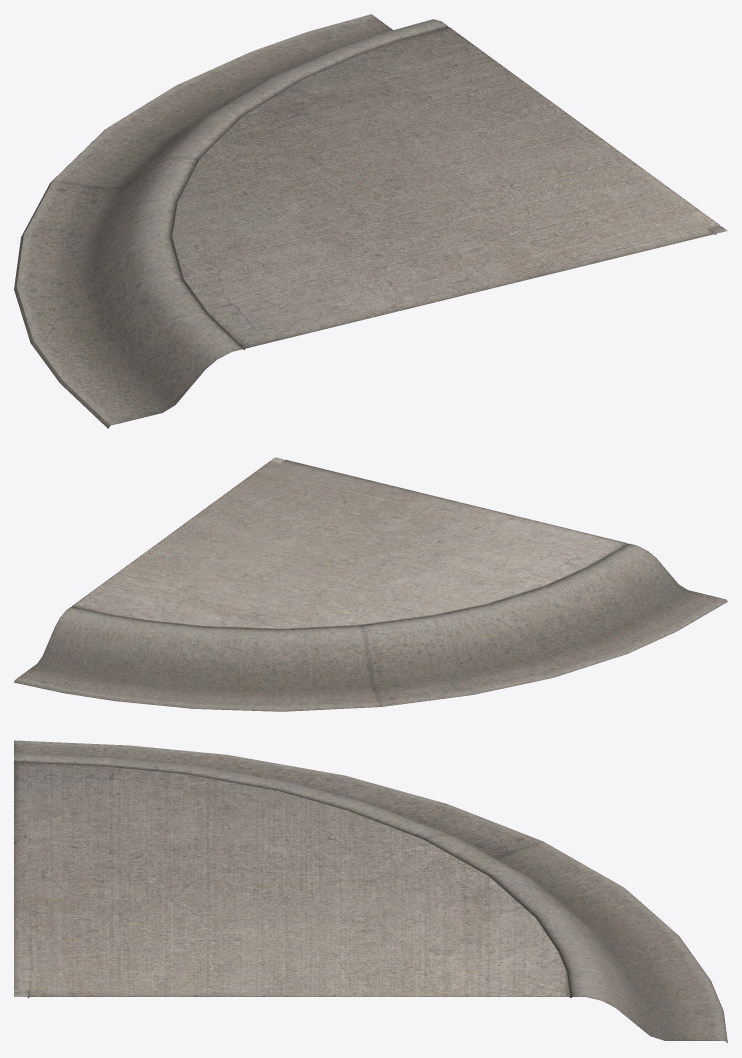
The model's file is SM_Sidewalk_Corner_01.glb.
The picture shows the model from 3 angles, top to bottom: view 1: azimuth 30°, elevation 25°; view 2: azimuth 150°, elevation 25°; view 3: azimuth 270°, elevation 25°; orthographic projection. The views are drawn at different scales.
Visible parts, largest first — view 1: SM_Sidewalk_Corner_01; view 2: SM_Sidewalk_Corner_01; view 3: SM_Sidewalk_Corner_01.
Boxes of the visible parts, x1,y1,x2,y2 form: SM_Sidewalk_Corner_01: (14, 14, 727, 428); SM_Sidewalk_Corner_01: (14, 457, 727, 711); SM_Sidewalk_Corner_01: (14, 740, 727, 1042).
Bounding box in the file's own units: 2.5 × 0.18 × 2.5.
1 material, 1 textured.
